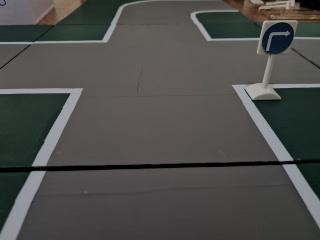right: (256, 17, 298, 61)
